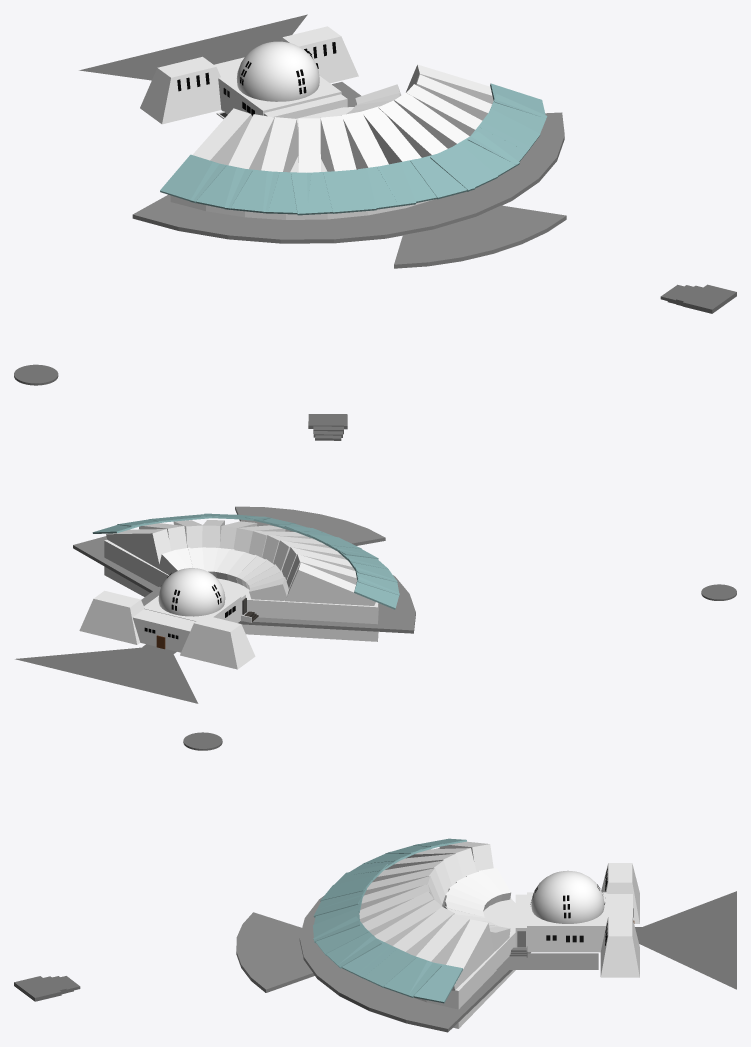
File: nyasta_asmundarsafnid_6.obj
3 views of the same model, one above another, from view 1: azimuth 30°, elevation 25°; view 2: azimuth 150°, elevation 25°; view 3: azimuth 270°, elevation 25° (orthographic). The views are drawn at different scales.
Parts seen in each view (by area): view 1: Cube.047, Cube.033, Cylinder.001, Cylinder.002, Plane, Sphere, h_hlid, v_hlid, syningarsalur, innanhus, Cube, Cube.019 (+1 smaller); view 2: Cube.033, syningarsalur, Plane, Cube.047, Cylinder.001, h_hlid, Sphere, v_hlid, Cylinder.002, adaldyr, Cube, innanhus (+1 smaller); view 3: Cube.033, Cube.047, Plane, Cylinder.001, Cylinder.002, Sphere, innanhus, syningarsalur, v_hlid, Plane.001, h_hlid, Cube (+3 smaller).
Part boxes in pixels (left/top/right/bottom): Cube.047: left=160, top=83, right=547, bottom=215; Cube.033: left=192, top=64, right=493, bottom=172; Cylinder.001: left=132, top=112, right=564, bottom=243; Cylinder.002: left=394, top=205, right=566, bottom=268; Plane: left=79, top=14, right=307, bottom=80; Sphere: left=236, top=41, right=319, bottom=101; h_hlid: left=140, top=56, right=221, bottom=124; v_hlid: left=280, top=26, right=358, bottom=83; syningarsalur: left=170, top=107, right=433, bottom=219; innanhus: left=218, top=72, right=341, bottom=116; Cube: left=660, top=284, right=736, bottom=313; Cube.019: left=263, top=94, right=347, bottom=118; Cube.033: left=106, top=520, right=375, bottom=605; syningarsalur: left=104, top=539, right=378, bottom=641; Plane: left=15, top=644, right=198, bottom=703; Cube.047: left=92, top=513, right=399, bottom=609; Cylinder.001: left=73, top=536, right=415, bottom=633; h_hlid: left=180, top=615, right=255, bottom=669; Sphere: left=158, top=568, right=225, bottom=616; v_hlid: left=79, top=590, right=144, bottom=644; Cylinder.002: left=235, top=506, right=385, bottom=545; adaldyr: left=132, top=609, right=195, bottom=652; Cube: left=308, top=414, right=347, bottom=440; innanhus: left=144, top=592, right=241, bottom=622; Cube.033: left=359, top=841, right=511, bottom=990; Cube.047: left=313, top=838, right=466, bottom=1003; Plane: left=635, top=891, right=736, bottom=989; Cylinder.001: left=299, top=848, right=530, bottom=1032; Cylinder.002: left=236, top=912, right=314, bottom=992; Sphere: left=531, top=870, right=604, bottom=923; innanhus: left=527, top=892, right=607, bottom=952; syningarsalur: left=414, top=898, right=515, bottom=1028; v_hlid: left=600, top=917, right=639, bottom=977; Plane.001: left=496, top=953, right=598, bottom=969; h_hlid: left=601, top=863, right=639, bottom=923; Cube: left=14, top=976, right=80, bottom=1001.
Size of the model in its own units: 71.2 by 9.13 by 73.85.
